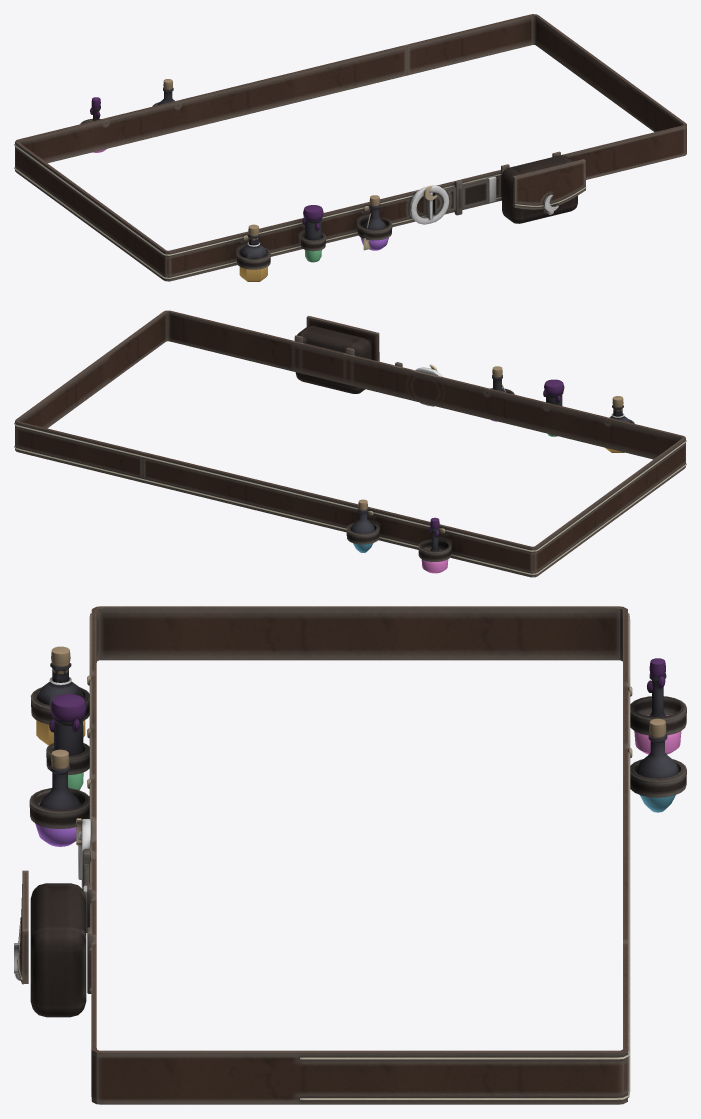
Rendered from NHAcc_PotionBelt.fbx.
3 views of the same model, one above another, from view 1: azimuth 30°, elevation 25°; view 2: azimuth 150°, elevation 25°; view 3: azimuth 270°, elevation 25° (orthographic). The views are drawn at different scales.
Parts seen in each view (by area): view 1: PotionBelt; view 2: PotionBelt; view 3: PotionBelt.
Boxes of the visible parts, x1=… form: PotionBelt: x1=14, y1=14, x2=686, y2=281; PotionBelt: x1=14, y1=310, x2=686, y2=577; PotionBelt: x1=14, y1=606, x2=686, y2=1104.
Size of the model in its own units: 2.04 by 0.222 by 1.29.
